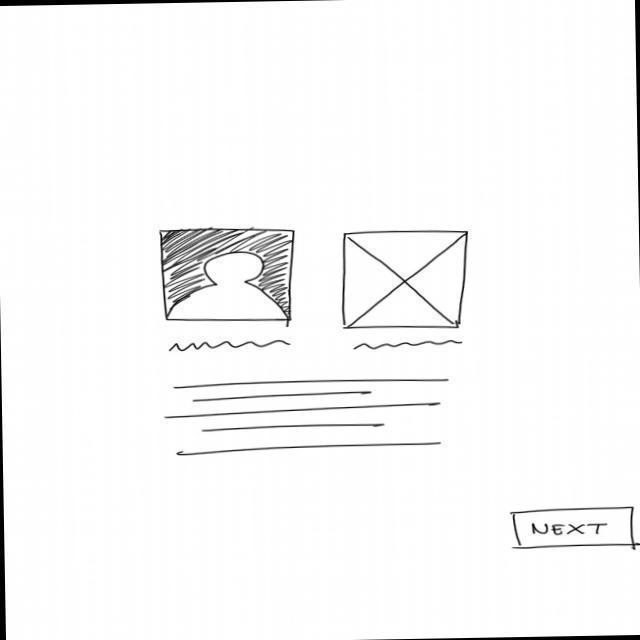button: (511, 504, 638, 554)
image: (155, 223, 298, 325), (340, 228, 472, 332)
text: (167, 338, 294, 355), (353, 339, 465, 352)
textbox: (162, 376, 454, 460)
